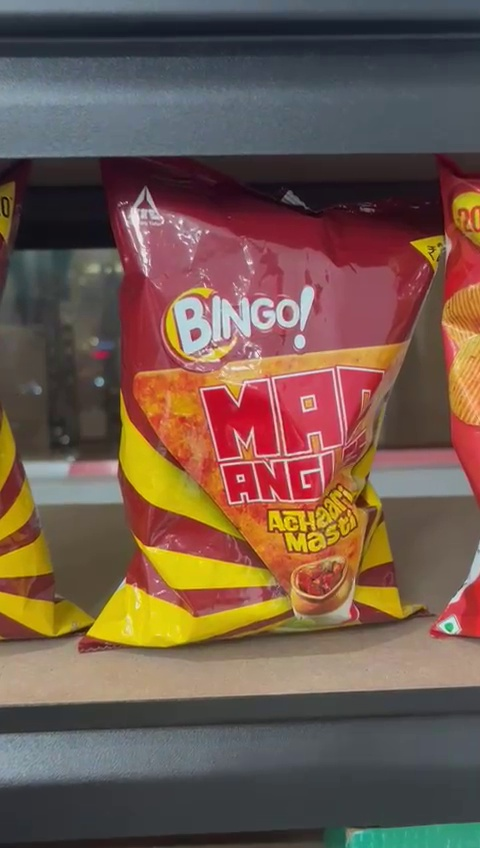Bingo Mad Angles: (104, 205, 430, 658)
